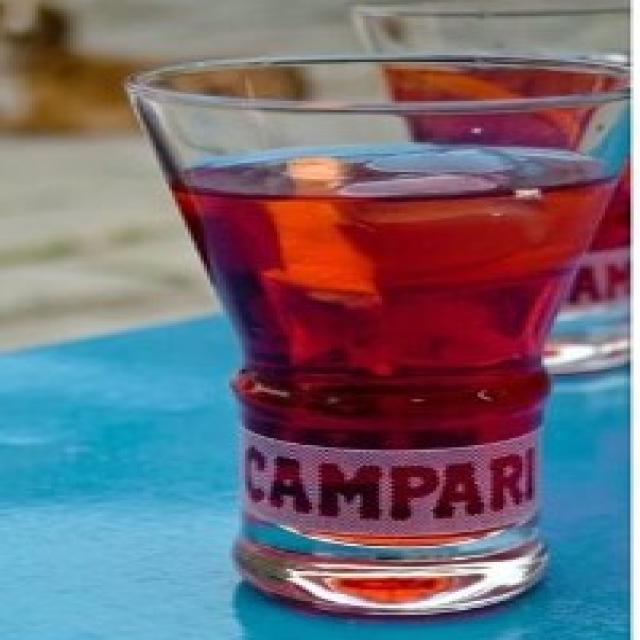electronic: (124, 2, 640, 615)
